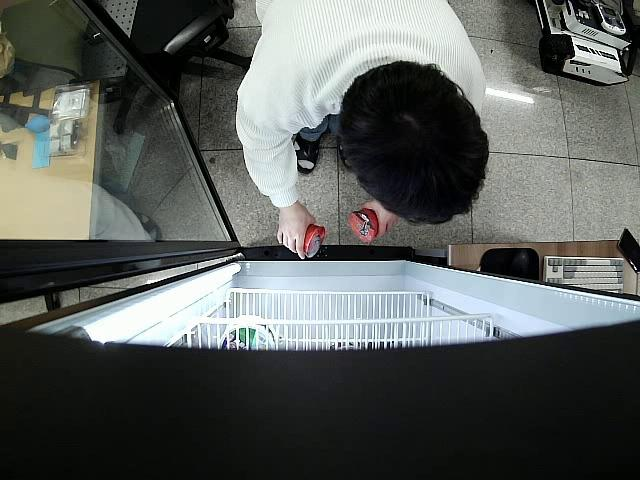00_hand: (277, 207, 315, 261)
02_shinRamen_S: (281, 223, 325, 259), (350, 207, 389, 243)
